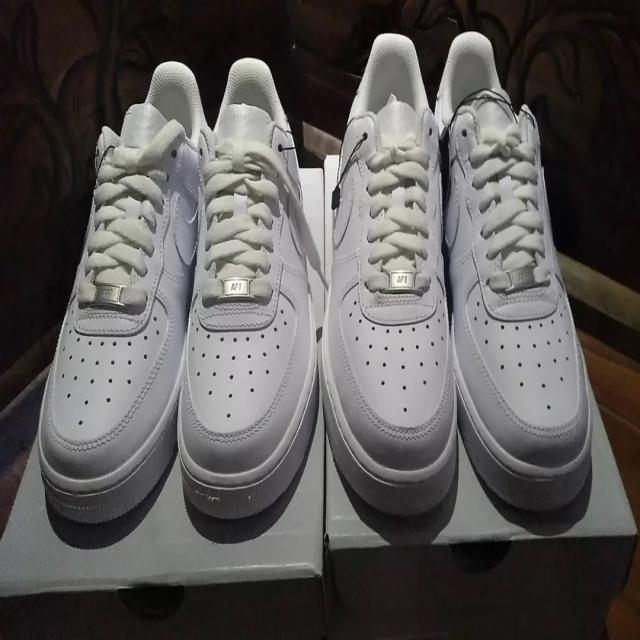nike original air force: (435, 32, 596, 520), (38, 58, 205, 526), (168, 55, 326, 520), (322, 31, 460, 514)
